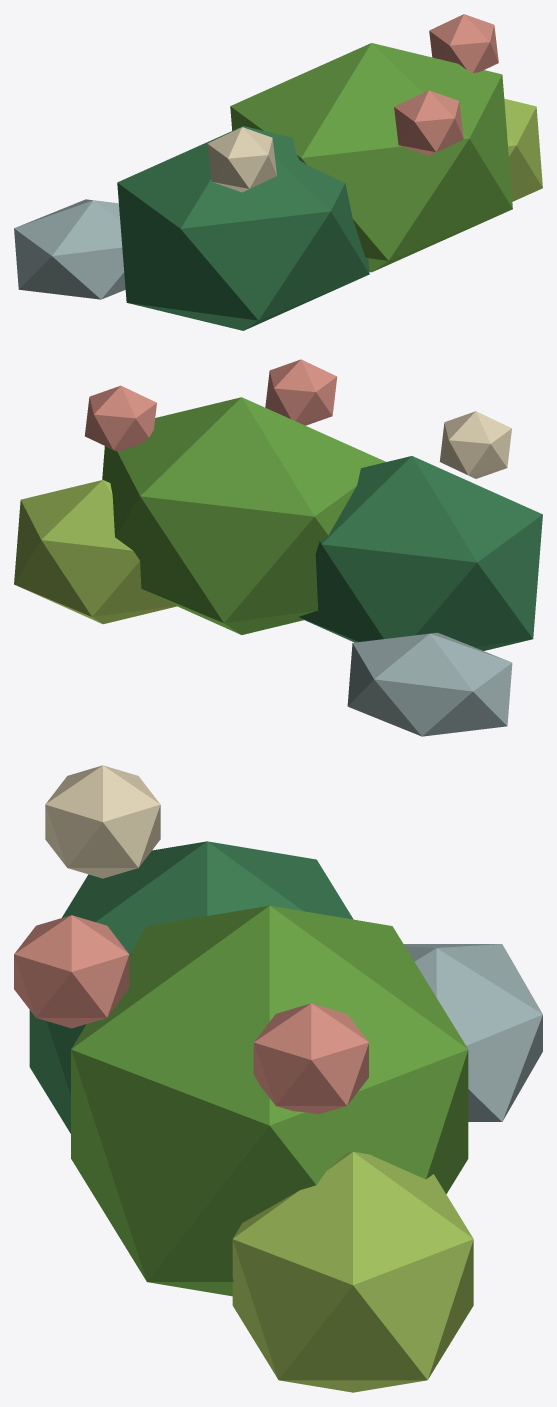
File: coast_garden.glb
3 views of the same model, one above another, from view 1: azimuth 30°, elevation 25°; view 2: azimuth 150°, elevation 25°; view 3: azimuth 270°, elevation 25° (orthographic). The views are drawn at different scales.
Visible parts, largest first — view 1: Coast_GardenMesh; view 2: Coast_GardenMesh; view 3: Coast_GardenMesh.
Boxes of the visible parts, left/top/right/bottom form: Coast_GardenMesh: left=14, top=14, right=542, bottom=330; Coast_GardenMesh: left=14, top=359, right=542, bottom=736; Coast_GardenMesh: left=14, top=765, right=542, bottom=1392.
Size of the model in its own units: 0.9452 by 0.4375 by 0.5074.
